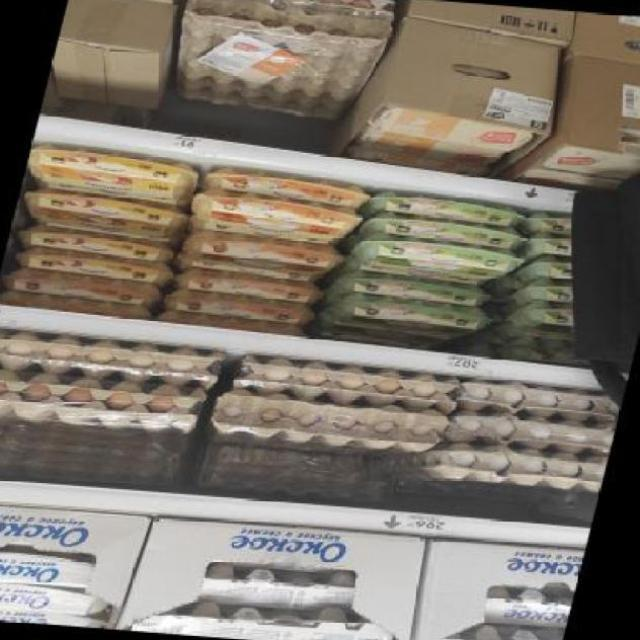Egg: (128, 597, 397, 640), (22, 142, 204, 199), (189, 560, 369, 614), (186, 189, 363, 243), (348, 234, 528, 284), (18, 189, 193, 237), (327, 293, 496, 339), (178, 231, 347, 276), (364, 108, 535, 149), (200, 168, 374, 208), (361, 212, 529, 251), (331, 271, 499, 309), (0, 269, 168, 307), (8, 245, 175, 283), (361, 191, 529, 228), (352, 130, 510, 168), (15, 226, 181, 262), (161, 290, 316, 324), (0, 544, 106, 593), (172, 269, 326, 302), (0, 575, 111, 620), (475, 586, 573, 628), (501, 299, 583, 338), (416, 619, 566, 640), (0, 601, 106, 628), (495, 334, 582, 366), (513, 277, 581, 305), (523, 255, 583, 283), (524, 231, 582, 258), (522, 211, 578, 235)
